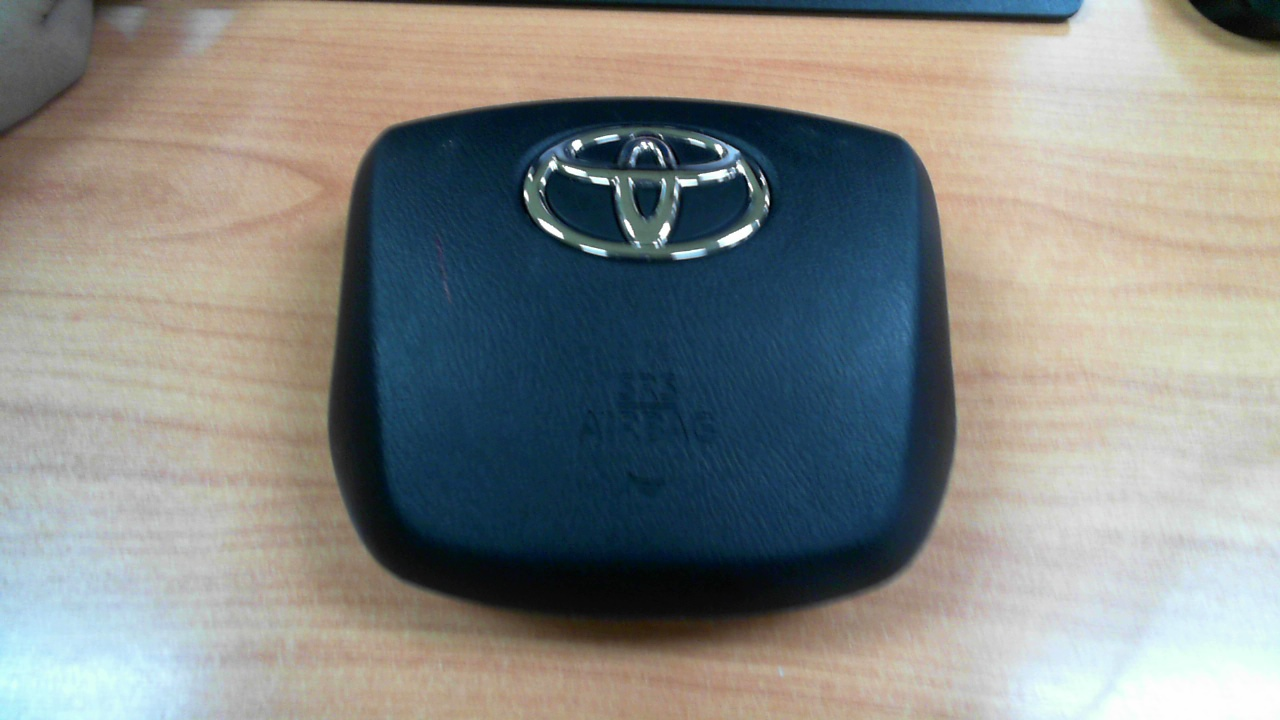Airbag: (328, 93, 953, 619)
Toyota: (523, 125, 771, 261)
